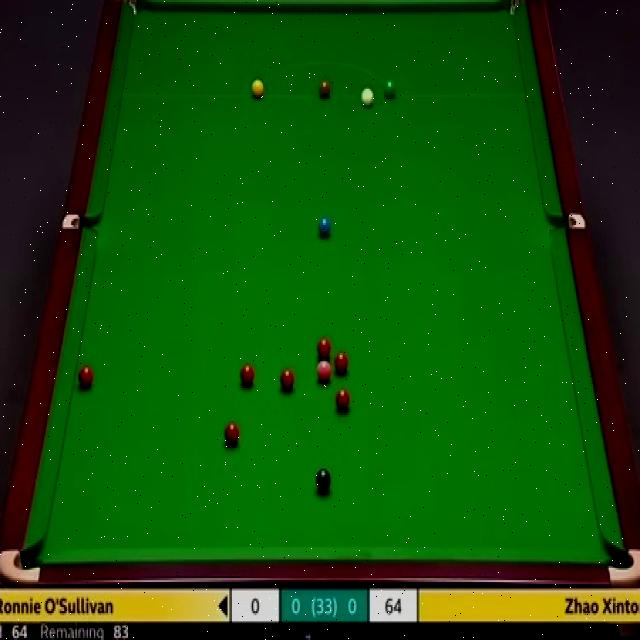black-ball: (316, 468, 332, 491)
blue-ball: (317, 215, 332, 237)
brown-ball: (318, 80, 332, 98)
green-ball: (383, 79, 397, 100)
pink-ball: (316, 360, 333, 384)
red-ball: (278, 367, 296, 392), (334, 388, 351, 414), (223, 420, 240, 446), (240, 362, 255, 388), (78, 366, 95, 388), (316, 336, 332, 359), (334, 352, 349, 376)
white-ball: (360, 87, 375, 108)
yellow-ball: (250, 77, 265, 98)
